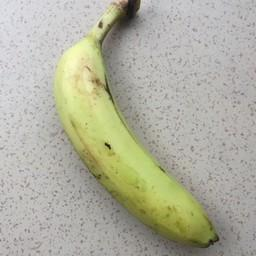Good_banana: (58, 0, 221, 256)
